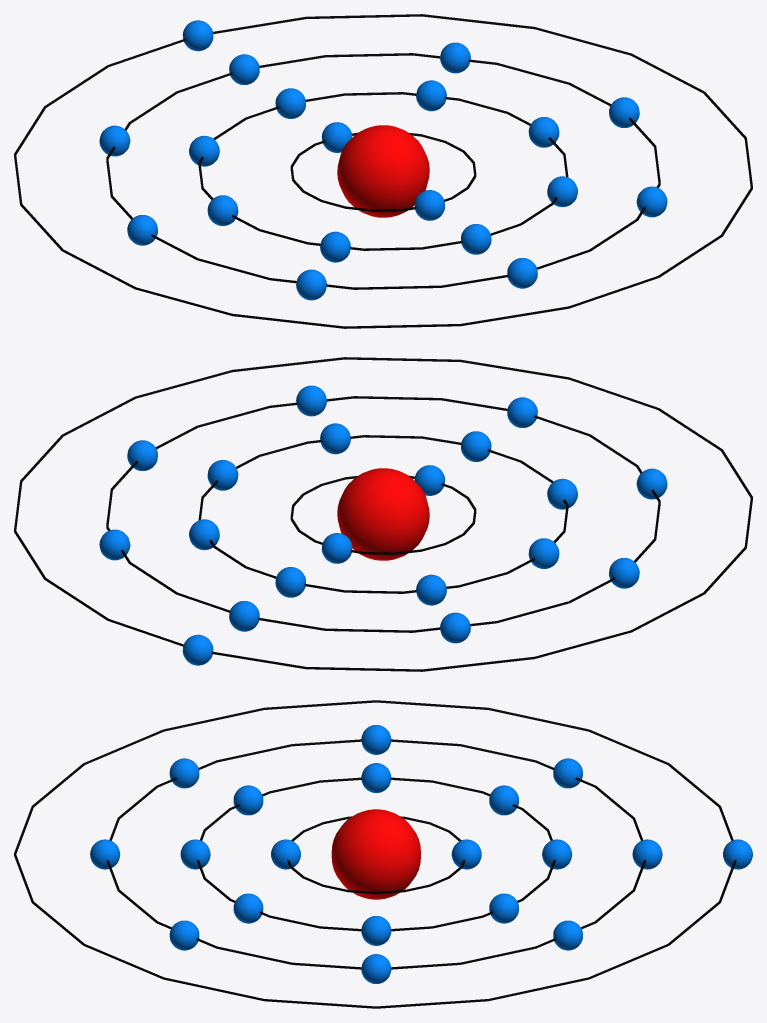
The model's file is Potassium.obj.
3 views of the same model, one above another, from view 1: azimuth 30°, elevation 25°; view 2: azimuth 150°, elevation 25°; view 3: azimuth 270°, elevation 25° (orthographic). The views are drawn at different scales.
Parts seen in each view (by area): view 1: pasted__pasted__pasted__pasted__pTorus1 pasted__pasted__group4 p, pasted__pSphere1 pasted__group3 group, pasted__pasted__pasted__pTorus1 pasted__group4 group1, pasted__group3 group pasted__pSphere10, pasted__group3 group pasted__pSphere19, pasted__group3 group pasted__pSphere8, pasted__group3 group pasted__pSphere25, pasted__group3 group pasted__pSphere15, pasted__group3 group pasted__pSphere18, pasted__group3 group pasted__pSphere13, pasted__group3 group pasted__pSphere24, pasted__group3 group pasted__pSphere14 (+10 smaller); view 2: pasted__pasted__pasted__pasted__pTorus1 pasted__pasted__group4 p, pasted__pSphere1 pasted__group3 group, pasted__pasted__pasted__pTorus1 pasted__group4 group1, pasted__group3 group pasted__pSphere6, pasted__group3 group pasted__pSphere25, pasted__group3 group pasted__pSphere20, pasted__group3 group pasted__pSphere4, pasted__group3 group pasted__pSphere16, pasted__group3 group pasted__pSphere21, pasted__group3 group pasted__pSphere14, pasted__group3 group pasted__pSphere17, pasted__group3 group pasted__pSphere13 (+10 smaller); view 3: pasted__pasted__pasted__pasted__pTorus1 pasted__pasted__group4 p, pasted__pSphere1 pasted__group3 group, pasted__pasted__pasted__pTorus1 pasted__group4 group1, pasted__group3 group pasted__pSphere21, pasted__group3 group pasted__pSphere4, pasted__group3 group pasted__pSphere10, pasted__group3 group pasted__pSphere11, pasted__group3 group pasted__pSphere19, pasted__group3 group pasted__pSphere22, pasted__group3 group pasted__pSphere12, pasted__group3 group pasted__pSphere18, pasted__group3 group pasted__pSphere8 (+10 smaller).
Boxes of the visible parts, x1=… form: pasted__pasted__pasted__pasted__pTorus1 pasted__pasted__group4 p: x1=14, y1=14, x2=752, y2=328; pasted__pSphere1 pasted__group3 group: x1=337, y1=125, x2=429, y2=217; pasted__pasted__pasted__pTorus1 pasted__group4 group1: x1=290, y1=132, x2=476, y2=211; pasted__group3 group pasted__pSphere10: x1=320, y1=231, x2=350, y2=262; pasted__group3 group pasted__pSphere19: x1=296, y1=269, x2=326, y2=300; pasted__group3 group pasted__pSphere8: x1=416, y1=80, x2=446, y2=111; pasted__group3 group pasted__pSphere25: x1=182, y1=20, x2=213, y2=51; pasted__group3 group pasted__pSphere15: x1=414, y1=190, x2=445, y2=220; pasted__group3 group pasted__pSphere18: x1=440, y1=42, x2=470, y2=73; pasted__group3 group pasted__pSphere13: x1=461, y1=224, x2=491, y2=254; pasted__group3 group pasted__pSphere24: x1=507, y1=258, x2=537, y2=288; pasted__group3 group pasted__pSphere14: x1=275, y1=88, x2=305, y2=118; pasted__pasted__pasted__pasted__pTorus1 pasted__pasted__group4 p: x1=14, y1=357, x2=752, y2=671; pasted__pSphere1 pasted__group3 group: x1=337, y1=468, x2=429, y2=560; pasted__pasted__pasted__pTorus1 pasted__group4 group1: x1=290, y1=475, x2=476, y2=554; pasted__group3 group pasted__pSphere6: x1=416, y1=574, x2=446, y2=605; pasted__group3 group pasted__pSphere25: x1=182, y1=634, x2=213, y2=665; pasted__group3 group pasted__pSphere20: x1=440, y1=612, x2=470, y2=643; pasted__group3 group pasted__pSphere4: x1=320, y1=423, x2=350, y2=454; pasted__group3 group pasted__pSphere16: x1=321, y1=533, x2=352, y2=563; pasted__group3 group pasted__pSphere21: x1=296, y1=385, x2=326, y2=416; pasted__group3 group pasted__pSphere14: x1=275, y1=567, x2=305, y2=597; pasted__group3 group pasted__pSphere17: x1=229, y1=601, x2=259, y2=631; pasted__group3 group pasted__pSphere13: x1=461, y1=431, x2=491, y2=461; pasted__pasted__pasted__pasted__pTorus1 pasted__pasted__group4 p: x1=14, y1=700, x2=736, y2=1008; pasted__pSphere1 pasted__group3 group: x1=331, y1=809, x2=420, y2=899; pasted__pasted__pasted__pTorus1 pasted__group4 group1: x1=287, y1=816, x2=464, y2=894; pasted__group3 group pasted__pSphere21: x1=169, y1=920, x2=199, y2=950; pasted__group3 group pasted__pSphere4: x1=233, y1=893, x2=263, y2=923; pasted__group3 group pasted__pSphere10: x1=233, y1=785, x2=263, y2=815; pasted__group3 group pasted__pSphere11: x1=361, y1=916, x2=391, y2=945; pasted__group3 group pasted__pSphere19: x1=169, y1=758, x2=199, y2=788; pasted__group3 group pasted__pSphere22: x1=361, y1=954, x2=391, y2=983; pasted__group3 group pasted__pSphere12: x1=361, y1=763, x2=391, y2=792; pasted__group3 group pasted__pSphere18: x1=553, y1=920, x2=582, y2=950; pasted__group3 group pasted__pSphere8: x1=489, y1=893, x2=518, y2=923.
Bounding box in the file's own units: 24.05 × 3 × 24.53.
